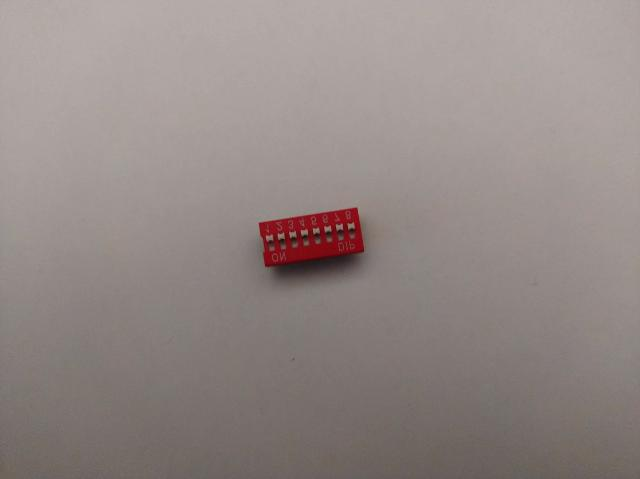dip_switch: (258, 206, 366, 268)
